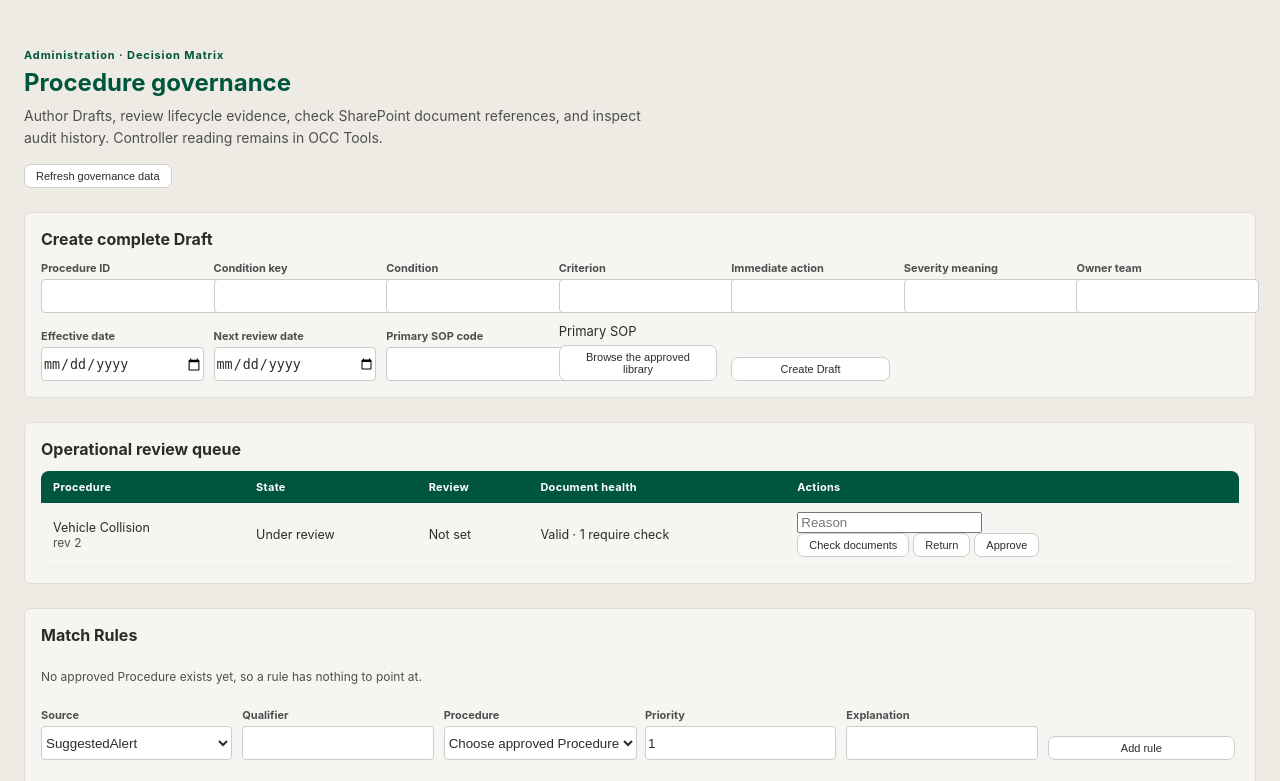
Decision Matrix administration › document checks on a governance row › lists what the check found, reference by reference, with the reason
Click the button "Check documents". click: (853, 545)
box: x1=797 y1=533 x2=909 y2=557
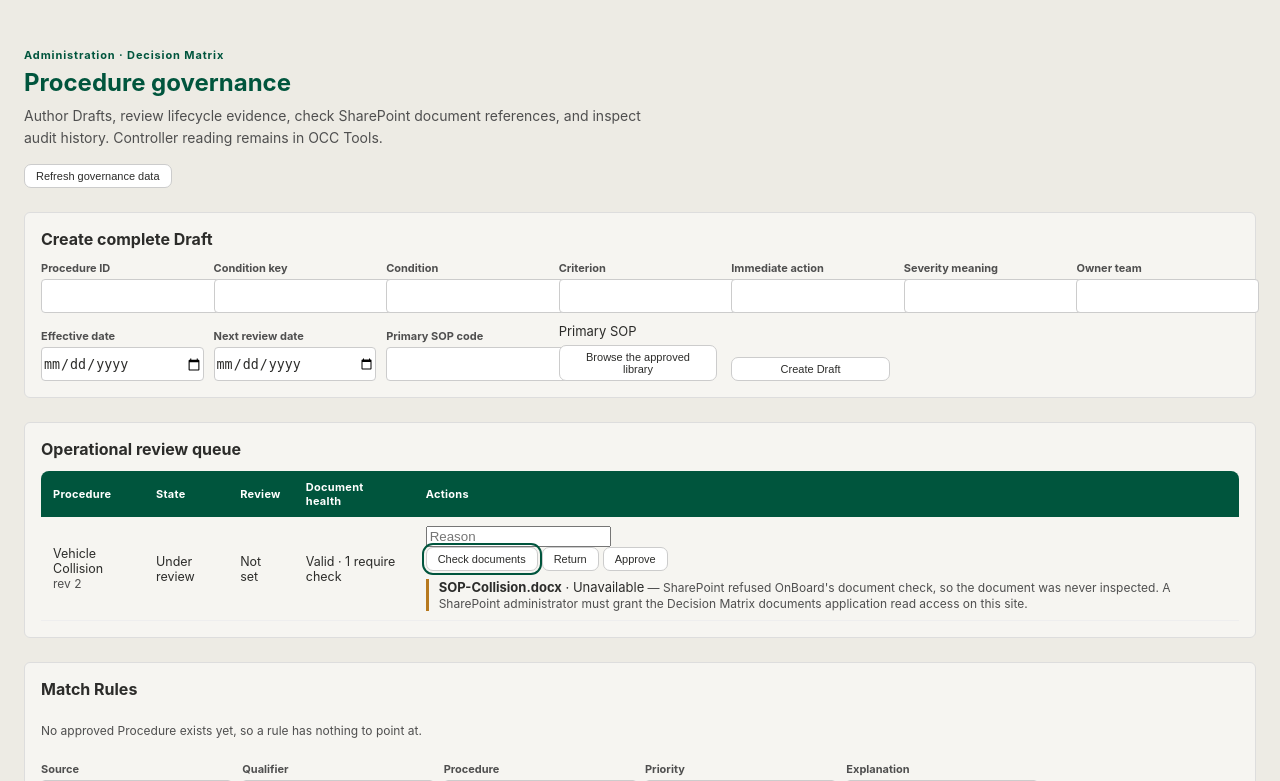
Check: the text "SOP-Collision.docx" is shown, box x1=439 y1=579 x2=562 y2=595
Check: the list named "Document check results" shows "Unavailable", box x1=573 y1=579 x2=644 y2=595
Check: the list named "Document check results" shows "grant the Decision Matrix documents application read access", box x1=439 y1=580 x2=1171 y2=611
